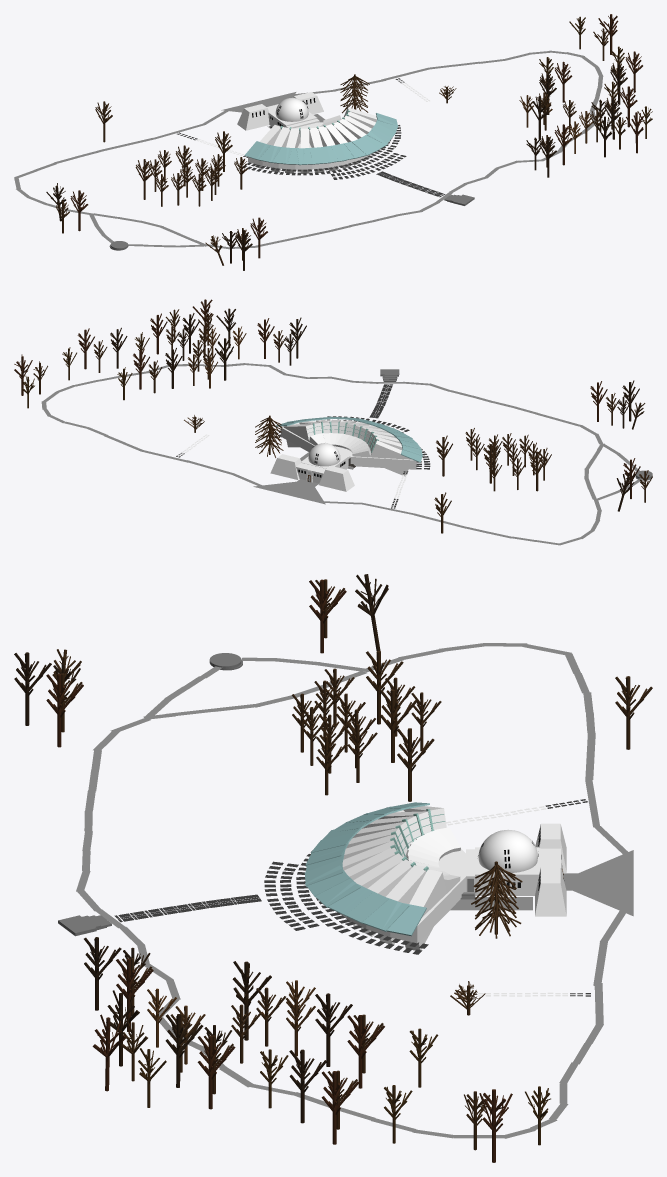
Rendered from asmundarsafn_03_46.obj.
3 renders of one model, top to bottom at view 1: azimuth 30°, elevation 25°; view 2: azimuth 150°, elevation 25°; view 3: azimuth 270°, elevation 25°, orthographic. The views are drawn at different scales.
Visible parts, largest first — view 1: Plane.001, Cube.047, Cube.033, Plane.131, syningarsalur, Sphere, h_hlid, Cylinder.066; view 2: Plane.001, Cube.033, syningarsalur, Cube.047, h_hlid, Sphere, v_hlid, Cylinder.066; view 3: Plane.001, Cube.033, Cube.047, Plane.131, syningarsalur, Sphere, v_hlid, Cylinder.066, innanhus, Plane.067.
Boxes of the visible parts, x1,y1,x2,y2 form: Plane.001: (14,50,603,250); Cube.047: (244,113,398,165); Cube.033: (255,107,376,173); Plane.131: (242,125,406,179); syningarsalur: (248,122,373,169); Sphere: (275,98,308,121); h_hlid: (237,104,269,130); Cylinder.066: (340,74,369,113); Plane.001: (41,363,650,545); Cube.033: (283,420,411,476); syningarsalur: (281,420,416,469); Cube.047: (276,416,422,462); h_hlid: (319,466,354,491); Sphere: (308,443,340,466); v_hlid: (270,454,301,479); Cylinder.066: (255,415,283,457); Plane.001: (58,643,633,1138); Cube.033: (342,806,460,950); Cube.047: (304,802,429,936); Plane.131: (264,850,428,954); syningarsalur: (341,810,465,943); Sphere: (478,829,537,872); v_hlid: (535,867,566,916); Cylinder.066: (473,861,522,938); innanhus: (475,847,540,895); Plane.067: (114,894,261,922).
Size of the model in its own units: 160 by 12.29 by 80.33.
